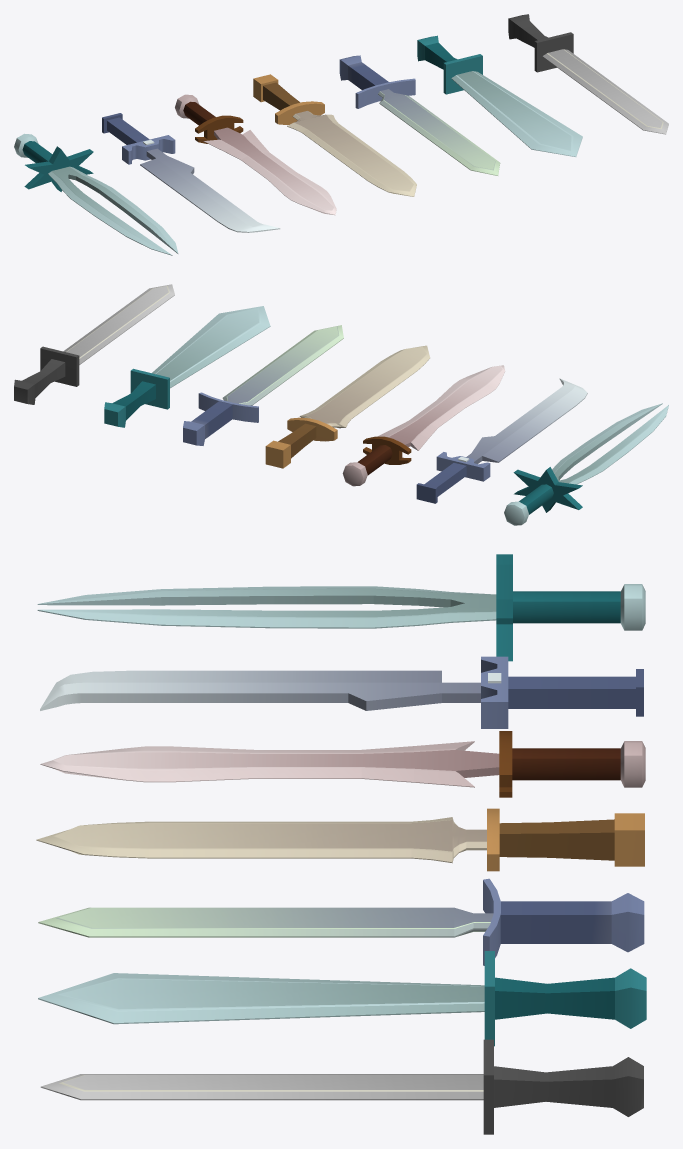
Rendered from swordd.fbx.
3 views of the same model, one above another, from view 1: azimuth 30°, elevation 25°; view 2: azimuth 150°, elevation 25°; view 3: azimuth 270°, elevation 25° (orthographic). The views are drawn at different scales.
Visible parts, largest first — view 1: Sw_2, Sw_4, pCube20, Sw_3, Sw_6, Sw_5, Sw_1; view 2: Sw_2, Sw_4, pCube20, Sw_3, Sw_6, Sw_5, Sw_1; view 3: Sw_2, Sw_4, pCube20, Sw_6, Sw_3, Sw_5, Sw_1.
Part boxes in pixels (x1,y1,x2,y2): Sw_2: (417,35,582,156); Sw_4: (253,74,416,196); pCube20: (14,133,178,255); Sw_3: (339,55,500,175); Sw_6: (102,113,280,232); Sw_5: (175,94,336,215); Sw_1: (508,14,668,134); Sw_2: (104,306,270,427); Sw_4: (265,345,429,468); pCube20: (504,403,668,525); Sw_3: (183,325,343,445); Sw_6: (416,378,587,503); Sw_5: (342,365,505,486); Sw_1: (14,284,174,404); Sw_2: (38,951,646,1046); Sw_4: (36,808,644,871); pCube20: (37,554,645,661); Sw_6: (40,656,643,728); Sw_3: (38,878,644,965); Sw_5: (40,731,645,797); Sw_1: (40,1039,643,1134).
Bounding box in the file's own units: 385 × 29.3 × 187.
